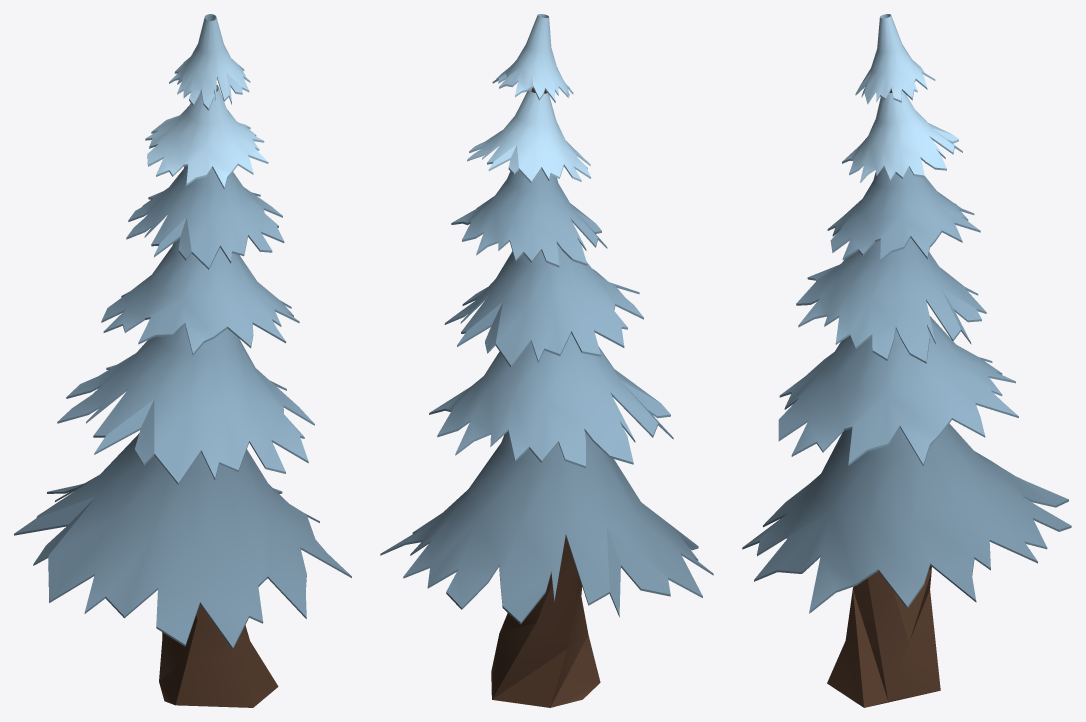
File: KleinerBaum.fbx
3 views of the same model, side by side, from view 1: azimuth 30°, elevation 25°; view 2: azimuth 150°, elevation 25°; view 3: azimuth 270°, elevation 25° (orthographic).
Visible parts, largest first — view 1: Circle.001; view 2: Circle.001; view 3: Circle.001.
Boxes of the visible parts, left/top/right/bottom form: Circle.001: left=14, top=14, right=351, bottom=707; Circle.001: left=380, top=14, right=713, bottom=707; Circle.001: left=742, top=14, right=1071, bottom=707.
Bounding box in the file's own units: 483 × 1110 × 498.
